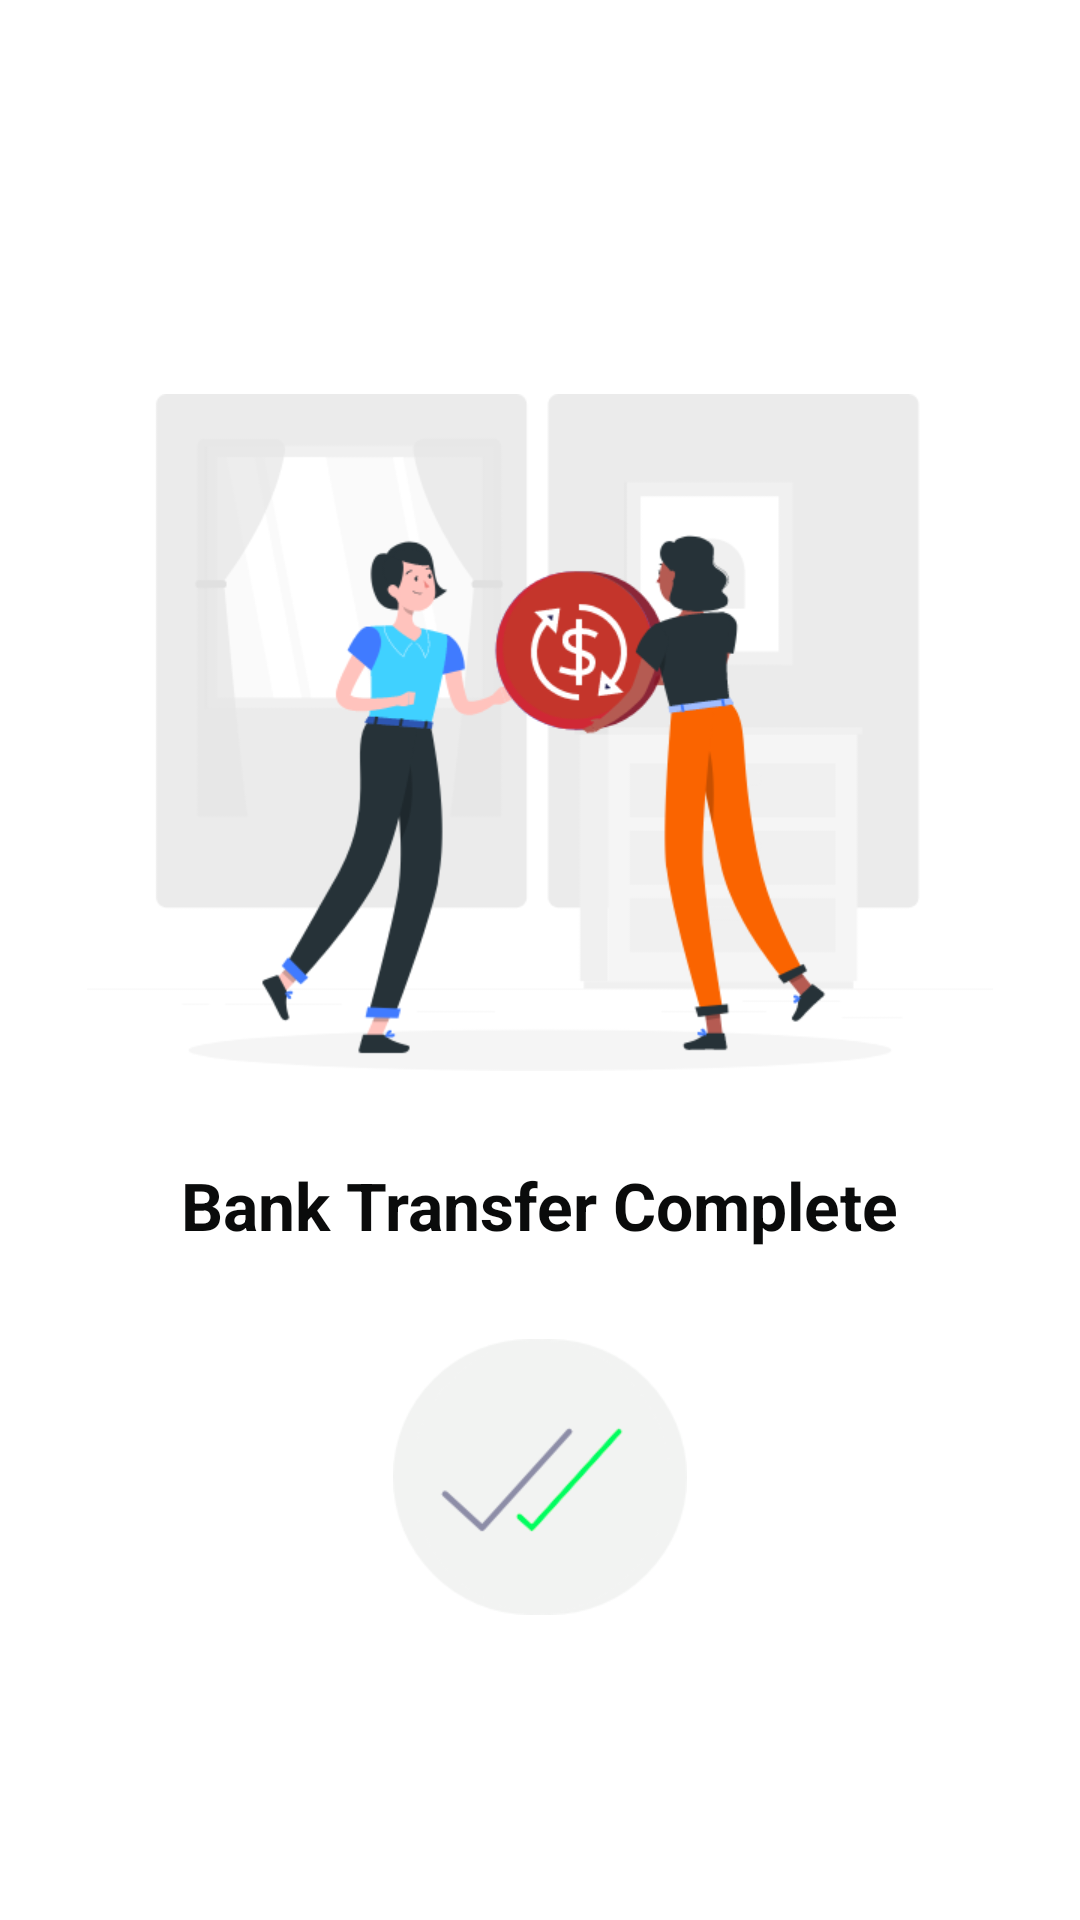

Icons on this 1080w x 1920h Android screen, each with the point to tap as point (x, y):
tick: point (540, 1477)
